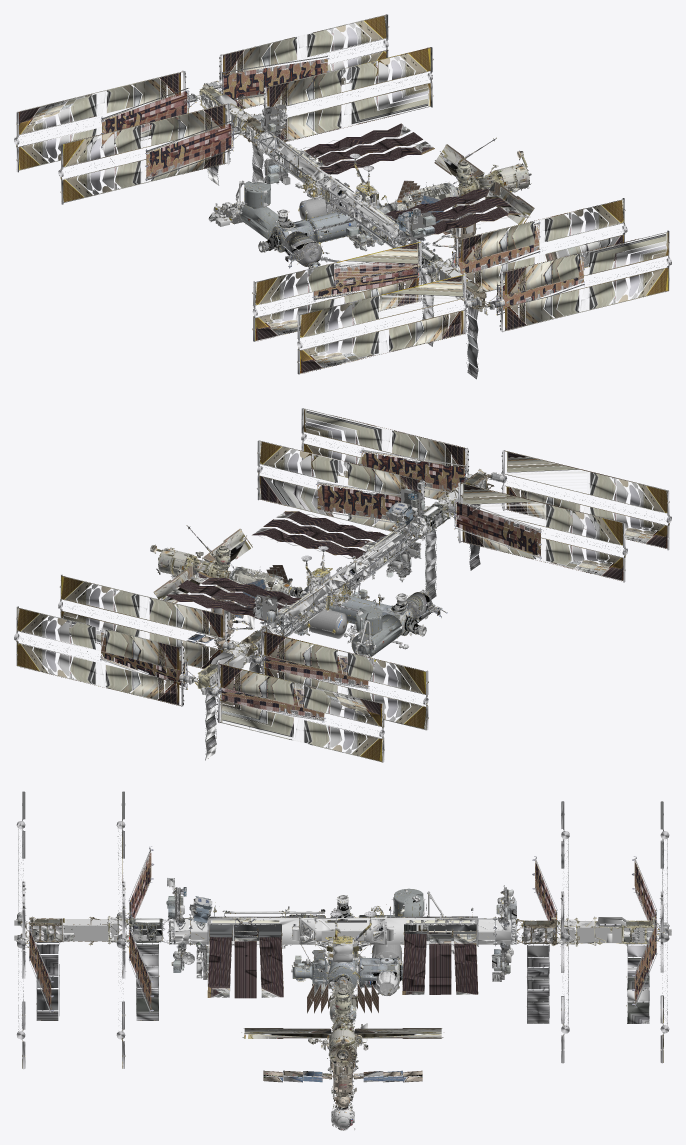
The model's file is iss-ext-lite.glb.
3 renders of one model, top to bottom at view 1: azimuth 30°, elevation 25°; view 2: azimuth 150°, elevation 25°; view 3: azimuth 270°, elevation 25°, orthographic. The views are drawn at different scales.
Parts seen in each view (by area): view 1: S6_1B_Array, S6_3B_Array, P4_Array_2A, P4_Array_4A, S4_Array_1A, S4_Array_3A, P6_2B_Array, P6_4B_Array, P1_Radiator, S1_Radiator, IROSA_Deployed_P44A, Zvezda_SM (+21 smaller); view 2: P6_2B_Array, P6_4B_Array, S4_Array_1A, P4_Array_4A, S6_3B_Array, P4_Array_2A, S4_Array_3A, S6_1B_Array, S1_Radiator, P1_Radiator, IROSA_Deployed_S41A, Zvezda_SM (+20 smaller); view 3: S1_Radiator, P1_Radiator, Truss_S6, Zvezda_SM, Truss_P6, Truss_P4, MLM, Truss_S4, Truss_S0, Zarya_FGB, SSREF_IGOAL, Z1 (+16 smaller).
Boxes of the visible parts, <box> form: S6_1B_Array: <box>488,230,671,332</box>; S6_3B_Array: <box>297,272,481,374</box>; P4_Array_2A: <box>249,47,433,143</box>; P4_Array_4A: <box>58,103,241,204</box>; S4_Array_1A: <box>252,240,437,341</box>; S4_Array_3A: <box>453,198,627,299</box>; P6_2B_Array: <box>14,70,197,172</box>; P6_4B_Array: <box>204,14,388,109</box>; P1_Radiator: <box>286,123,434,174</box>; S1_Radiator: <box>373,189,521,245</box>; IROSA_Deployed_P44A: <box>146,120,233,180</box>; Zvezda_SM: <box>434,144,534,224</box>; P6_2B_Array: <box>202,662,384,762</box>; P6_4B_Array: <box>14,606,195,706</box>; S4_Array_1A: <box>446,482,627,582</box>; P4_Array_4A: <box>246,629,428,730</box>; S6_3B_Array: <box>490,450,671,550</box>; P4_Array_2A: <box>58,574,237,669</box>; S4_Array_3A: <box>257,440,429,540</box>; S6_1B_Array: <box>301,408,474,505</box>; S1_Radiator: <box>252,511,398,558</box>; P1_Radiator: <box>166,571,312,633</box>; IROSA_Deployed_S41A: <box>454,499,541,558</box>; Zvezda_SM: <box>153,528,252,607</box>; S1_Radiator: <box>207,920,283,998</box>; P1_Radiator: <box>402,920,478,994</box>; Truss_S6: <box>20,918,108,1020</box>; Zvezda_SM: <box>241,1016,444,1067</box>; Truss_P6: <box>577,917,660,1023</box>; Truss_P4: <box>516,918,560,1023</box>; MLM: <box>263,1023,422,1108</box>; Truss_S4: <box>121,917,171,1020</box>; Truss_S0: <box>299,917,386,962</box>; Zarya_FGB: <box>307,979,378,1022</box>; SSREF_IGOAL: <box>328,914,402,988</box>; Z1: <box>325,911,376,962</box>.
Bounding box in the file's own units: 7.46 × 3.11 × 10.09.
42 materials, 40 textured.
